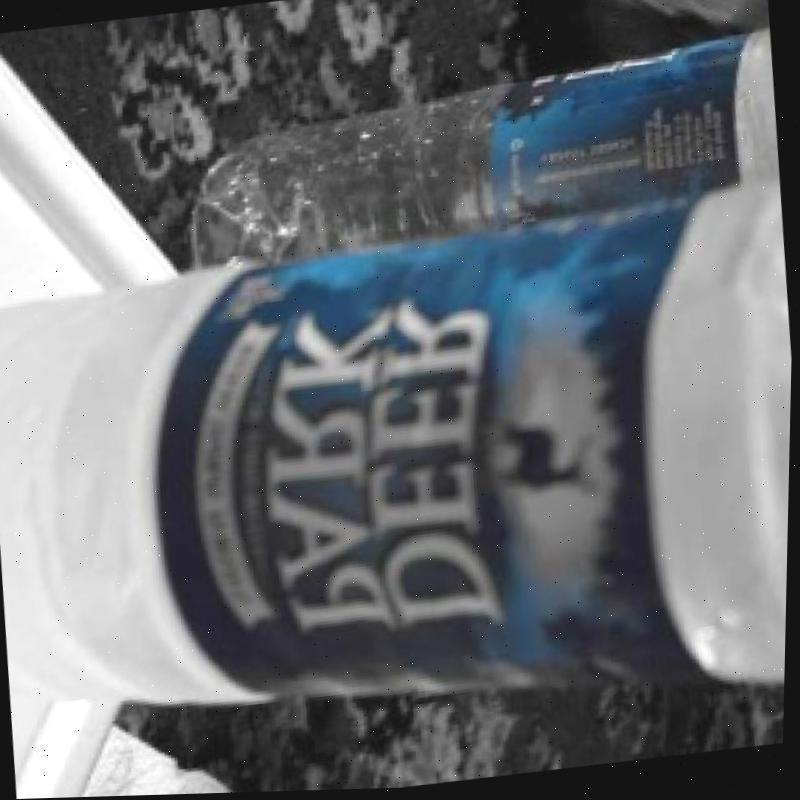botella: (0, 182, 796, 779), (179, 34, 786, 271)
